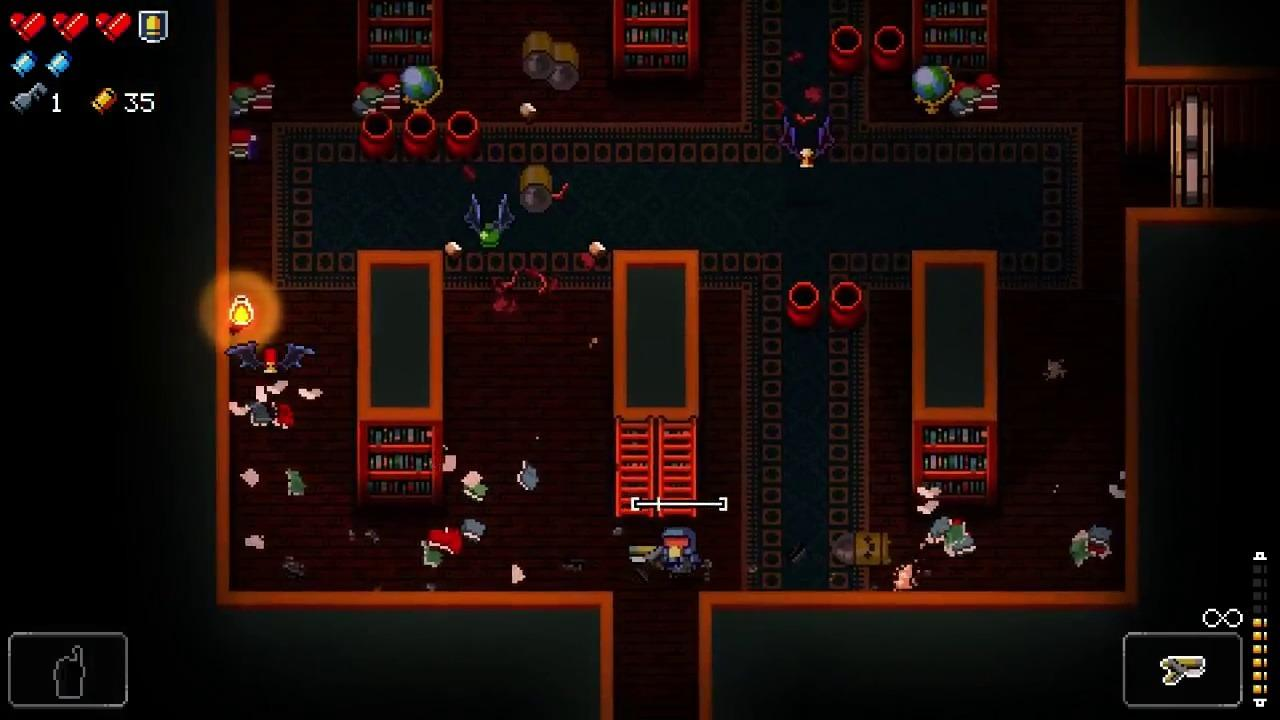bullat: (774, 116, 839, 173)
bullet_kin: (520, 164, 553, 215)
dead_bullet_kin: (831, 529, 890, 568), (522, 31, 554, 83), (552, 40, 578, 91)
grenat: (464, 194, 517, 250)
locked_door: (1168, 94, 1219, 206)
player: (657, 530, 701, 579)
shotgat: (221, 341, 317, 374)
